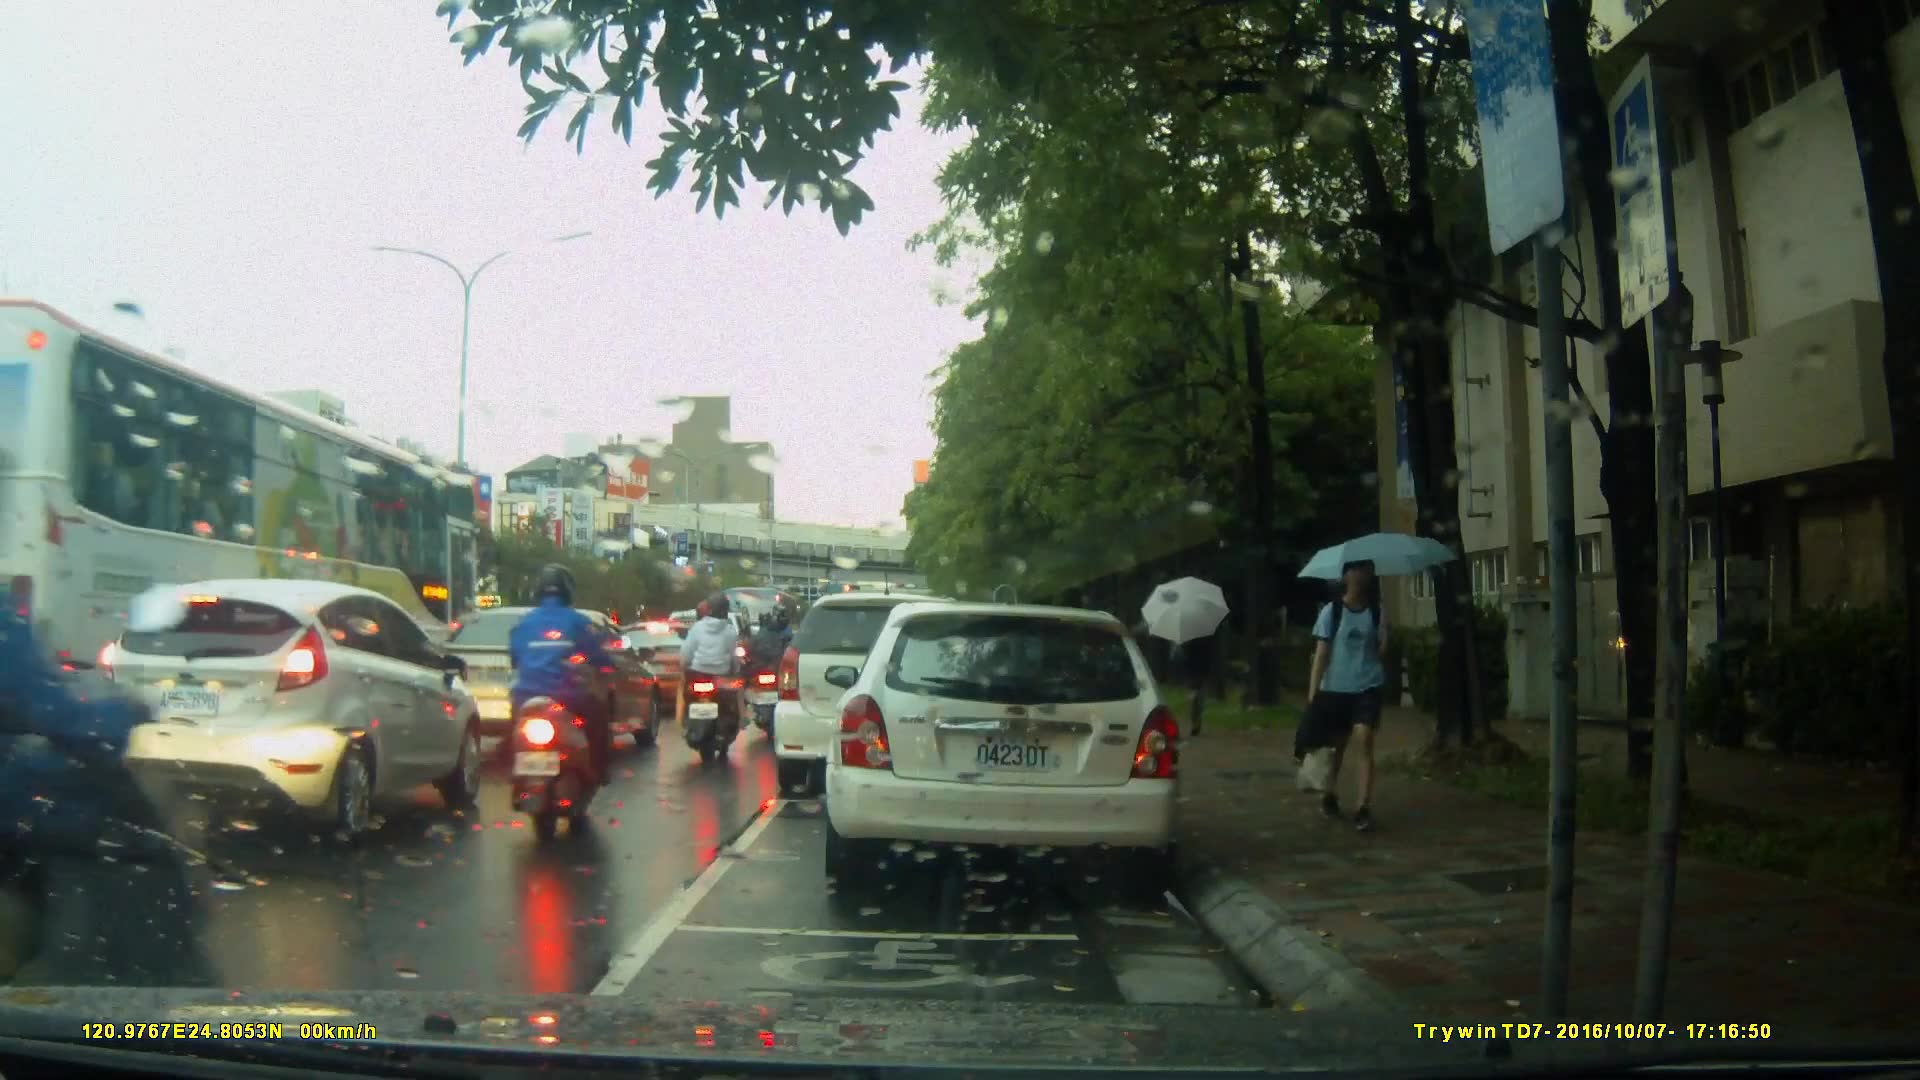pedestrian: (1291, 548, 1416, 829), (1169, 607, 1223, 736)
rider: (1, 435, 211, 1075), (514, 565, 617, 832), (682, 593, 755, 775), (748, 604, 788, 740)
vehicle: (1, 298, 496, 800), (835, 594, 1194, 898), (83, 575, 485, 846), (776, 590, 1026, 784), (403, 604, 654, 758), (607, 619, 729, 715)
